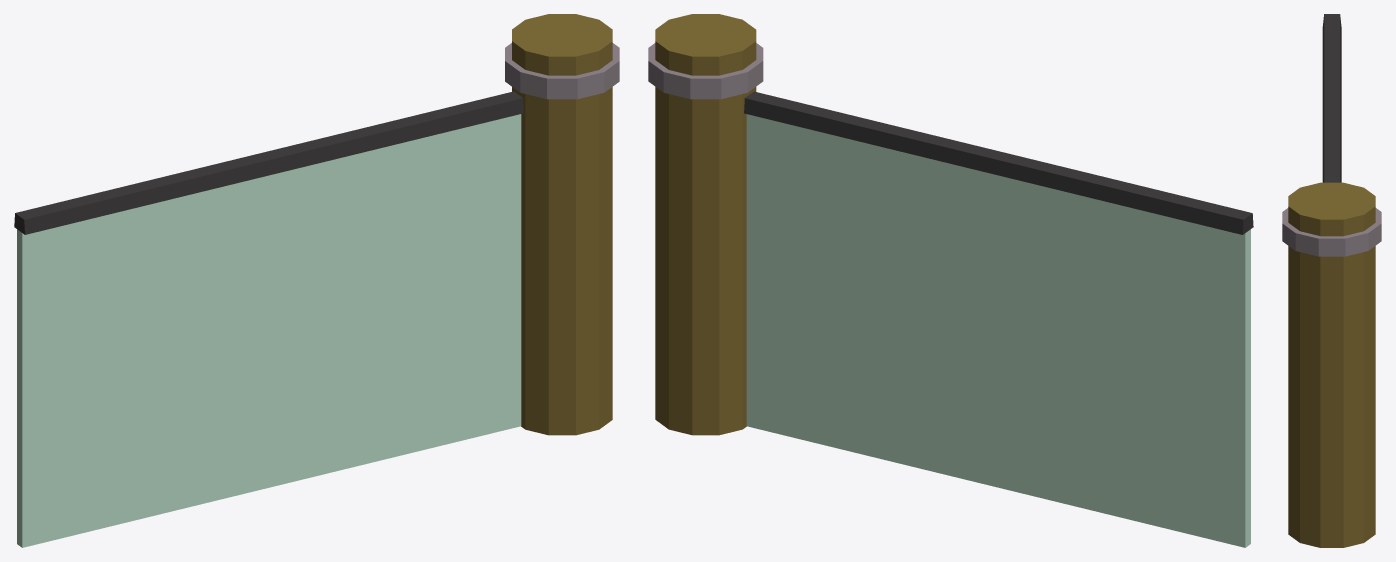
File: Log_Fence_3m.fbx
The picture shows the model from 3 angles, left to right: view 1: azimuth 30°, elevation 25°; view 2: azimuth 150°, elevation 25°; view 3: azimuth 270°, elevation 25°; orthographic projection. The views are drawn at different scales.
Visible parts, largest first — view 1: Fence_Log_3m; view 2: Fence_Log_3m; view 3: Fence_Log_3m.
Part boxes in pixels (x1,y1,x2,y2): Fence_Log_3m: (14, 14, 619, 547); Fence_Log_3m: (648, 14, 1253, 547); Fence_Log_3m: (1282, 14, 1381, 547).
Size of the model in its own units: 327 by 200 by 54.93.
